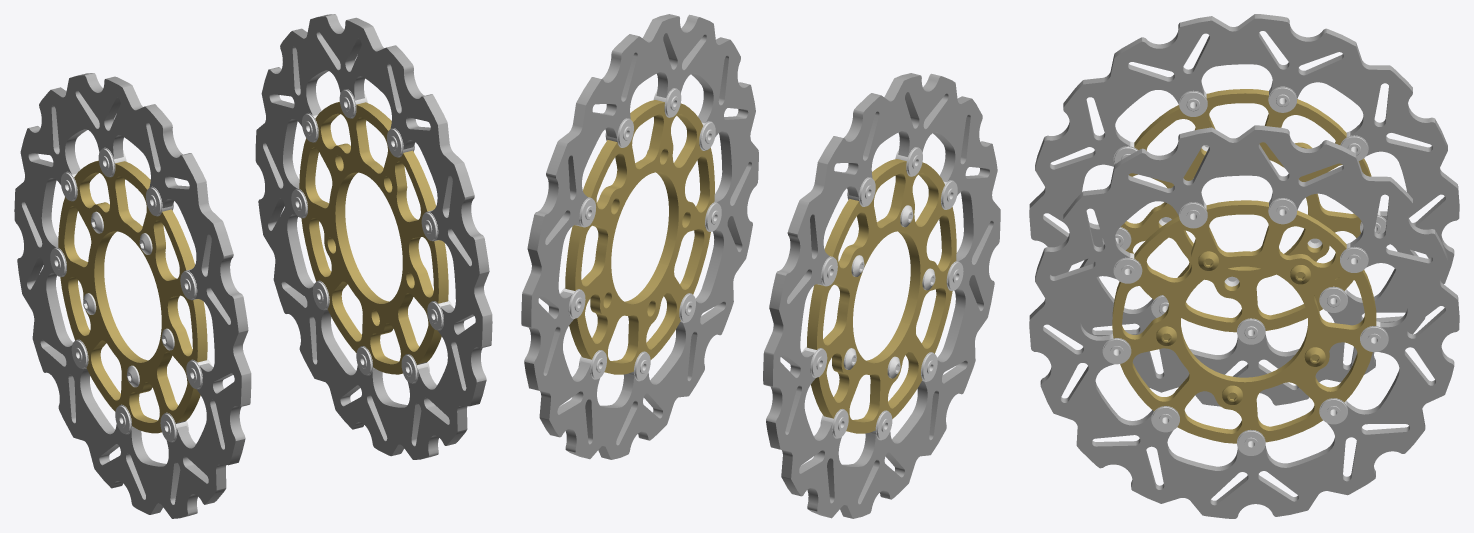
File: FrontRotors_ARASH_GOLD.glb
3 renders of one model, left to right at view 1: azimuth 30°, elevation 25°; view 2: azimuth 150°, elevation 25°; view 3: azimuth 270°, elevation 25°, orthographic. The views are drawn at different scales.
Parts seen in each view (by area): view 1: FrontRotors_ARASH_GOLD; view 2: FrontRotors_ARASH_GOLD; view 3: FrontRotors_ARASH_GOLD.
Boxes of the visible parts, left/top/right/bottom form: FrontRotors_ARASH_GOLD: left=14, top=14, right=492, bottom=518; FrontRotors_ARASH_GOLD: left=521, top=14, right=1000, bottom=518; FrontRotors_ARASH_GOLD: left=1029, top=14, right=1459, bottom=518.
Size of the model in its own units: 0.2036 by 0.3069 by 0.3075.
